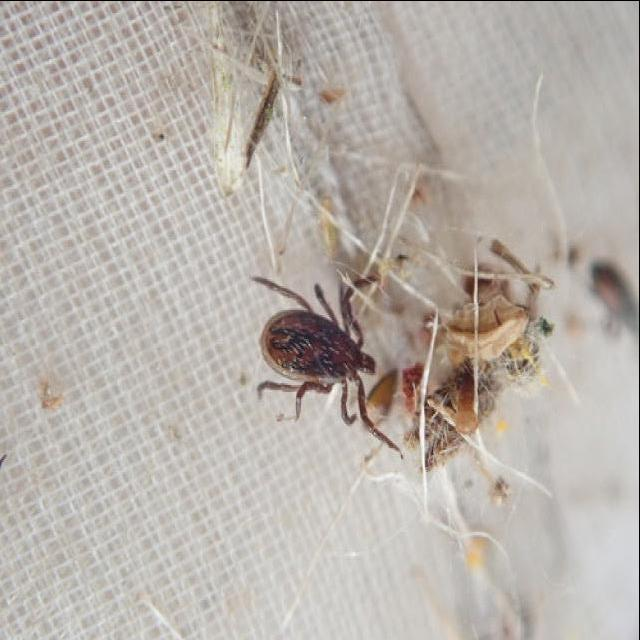Ixodes Ricinus-M: (255, 273, 401, 452)
